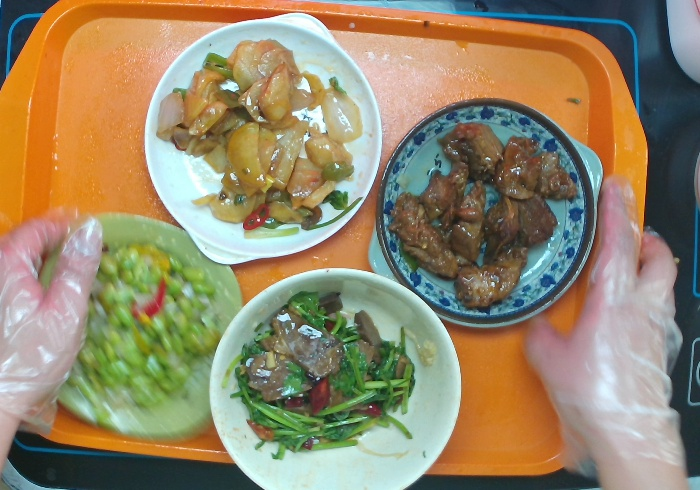NLDX-Bai_Se_Shuang_Er_Die: (140, 8, 387, 268)
NLDX-Bai_Se_Yuan_Wan: (205, 263, 466, 490)
NLDX-Lv_Hua_Fang_Die: (29, 208, 245, 444)
NLDX-Qing_Hua_Shuang_Er_Die: (364, 94, 606, 333)
